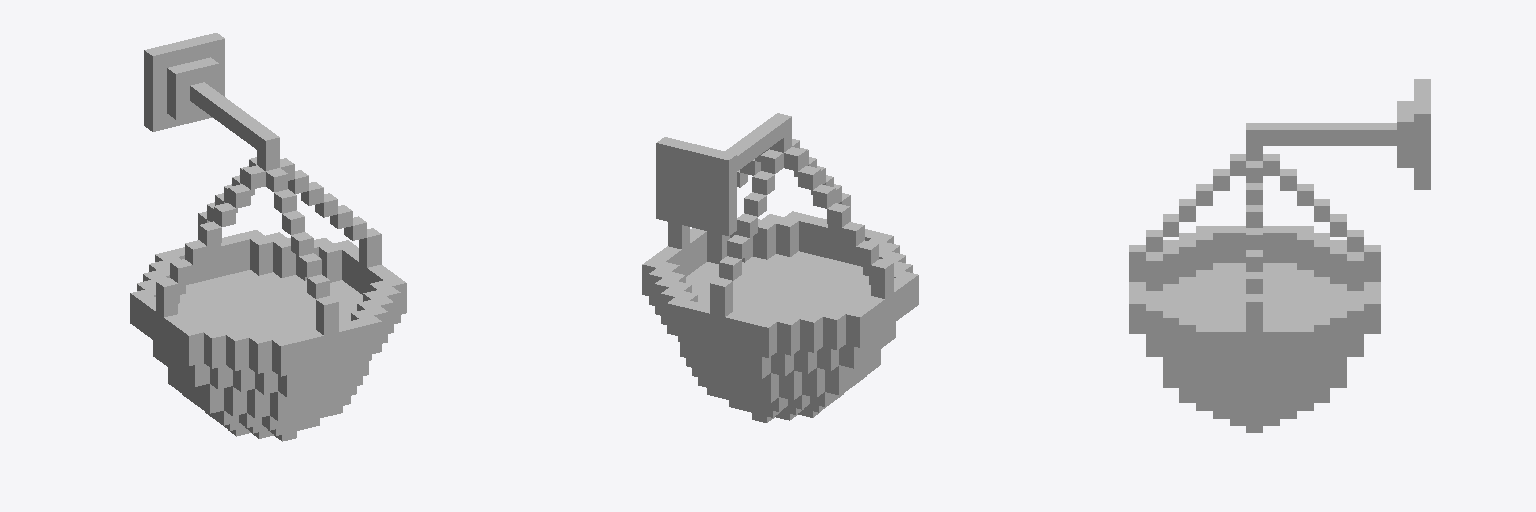
The model's file is Hanging Basket 1 - Empty.obj.
3 views of the same model, side by side, from view 1: azimuth 30°, elevation 25°; view 2: azimuth 150°, elevation 25°; view 3: azimuth 270°, elevation 25° (orthographic).
Visible parts, largest first — view 1: Hanging Basket 1 - Empty; view 2: Hanging Basket 1 - Empty; view 3: Hanging Basket 1 - Empty.
Part boxes in pixels (x1,y1,x2,y2): Hanging Basket 1 - Empty: (130, 33, 406, 441); Hanging Basket 1 - Empty: (642, 113, 918, 422); Hanging Basket 1 - Empty: (1129, 79, 1430, 432).
Bounding box in the file's own units: 15 × 21 × 18.